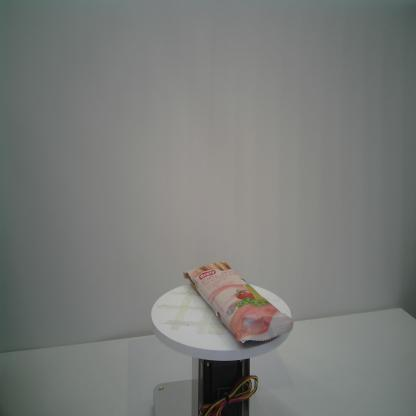Dessert: (181, 259, 294, 349)
